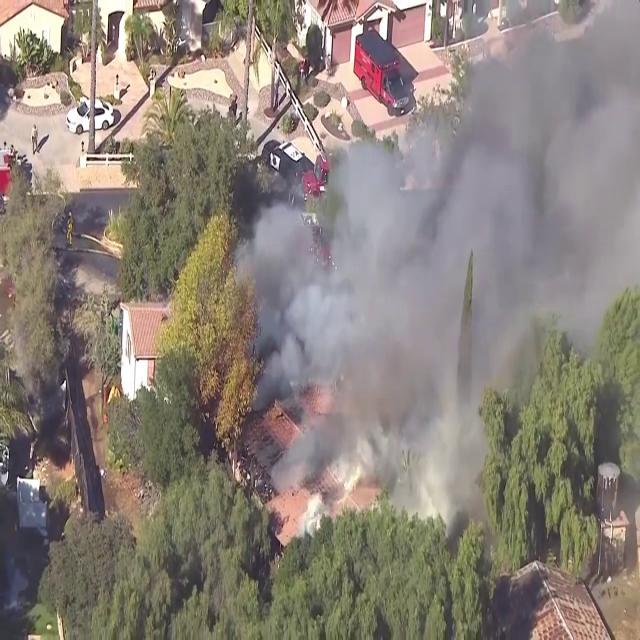Fire: (266, 454, 384, 544)
Smoke: (235, 3, 640, 521)
